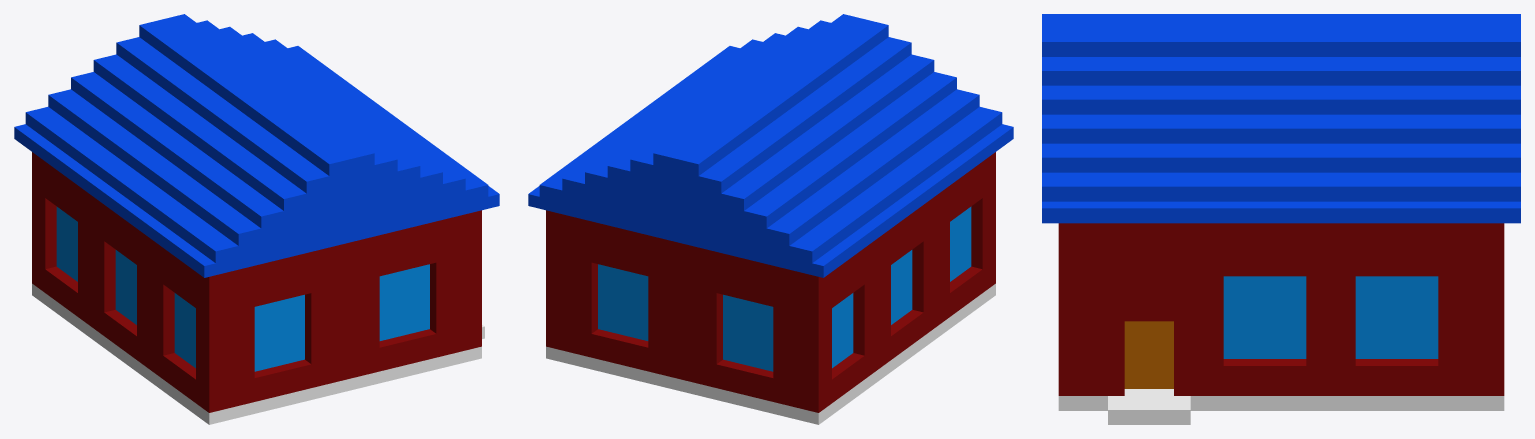
File: talo.gltf
The picture shows the model from 3 angles, left to right: view 1: azimuth 30°, elevation 25°; view 2: azimuth 150°, elevation 25°; view 3: azimuth 270°, elevation 25°; orthographic projection. The views are drawn at different scales.
Visible parts, largest first — view 1: Layer.1; view 2: Layer.1; view 3: Layer.1.
Part boxes in pixels (x1,y1,x2,y2): Layer.1: (14, 14, 499, 424); Layer.1: (528, 14, 1013, 424); Layer.1: (1042, 14, 1520, 424).
Bounding box in the file's own units: 27 × 20 × 29.
1 material, 1 textured.
